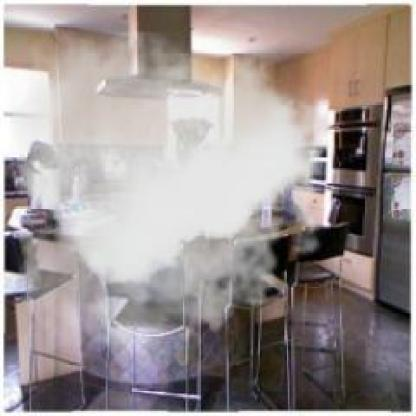Smoke: (10, 32, 344, 374)
